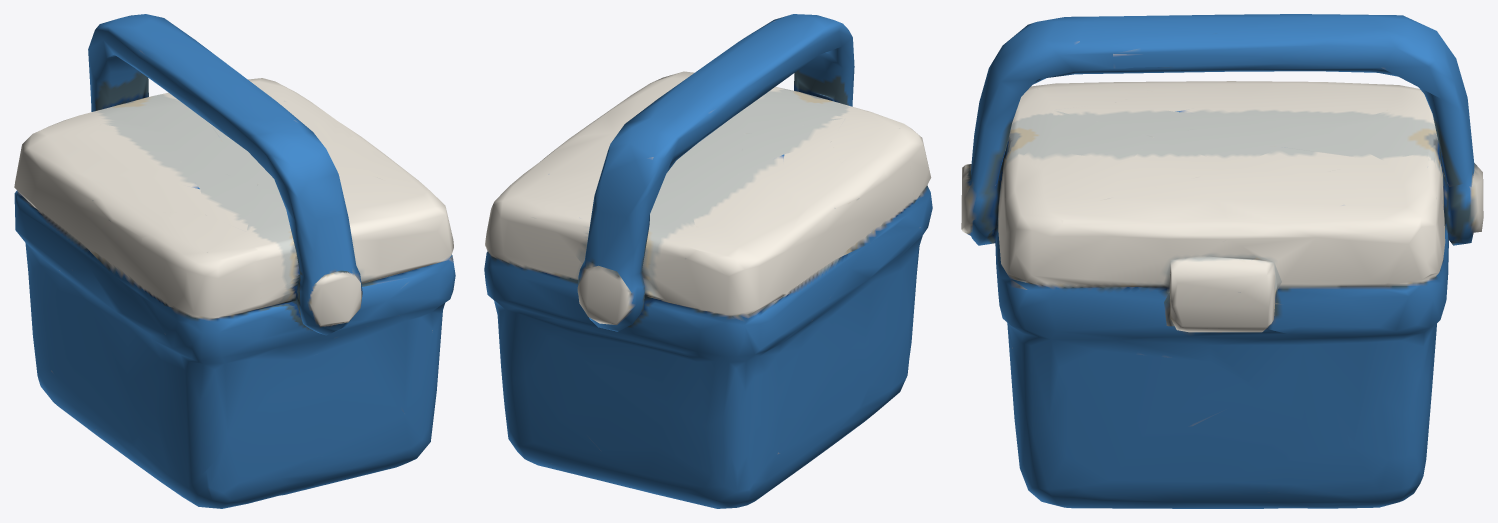
Rendered from f-cooler.glb.
3 renders of one model, left to right at view 1: azimuth 30°, elevation 25°; view 2: azimuth 150°, elevation 25°; view 3: azimuth 270°, elevation 25°, orthographic. The views are drawn at different scales.
Parts seen in each view (by area): view 1: tripo_node_76ebaa5a-00c9-435d-8b40-f5b050a0c0db; view 2: tripo_node_76ebaa5a-00c9-435d-8b40-f5b050a0c0db; view 3: tripo_node_76ebaa5a-00c9-435d-8b40-f5b050a0c0db.
Boxes of the visible parts, box(x1,y1,x2,y2) form: tripo_node_76ebaa5a-00c9-435d-8b40-f5b050a0c0db: box(14, 14, 455, 508); tripo_node_76ebaa5a-00c9-435d-8b40-f5b050a0c0db: box(484, 14, 932, 508); tripo_node_76ebaa5a-00c9-435d-8b40-f5b050a0c0db: box(961, 14, 1483, 508).
Size of the model in its own units: 0.7467 by 0.8872 by 1.
1 material, 1 textured.
